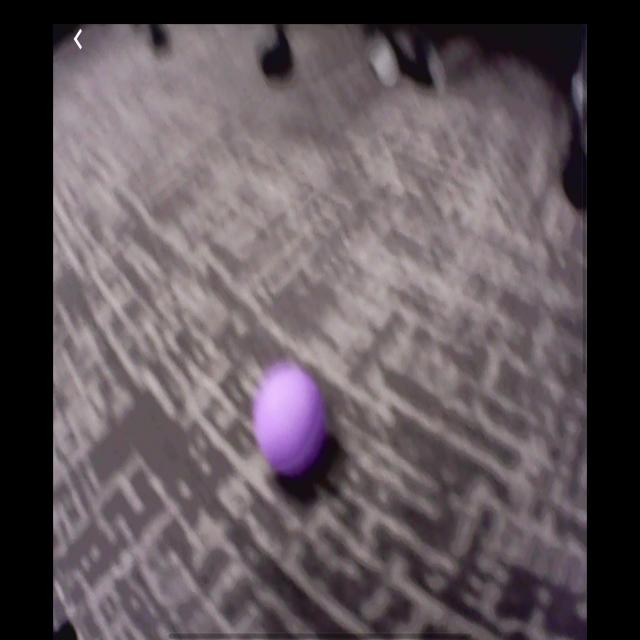ball: (257, 361, 325, 470)
